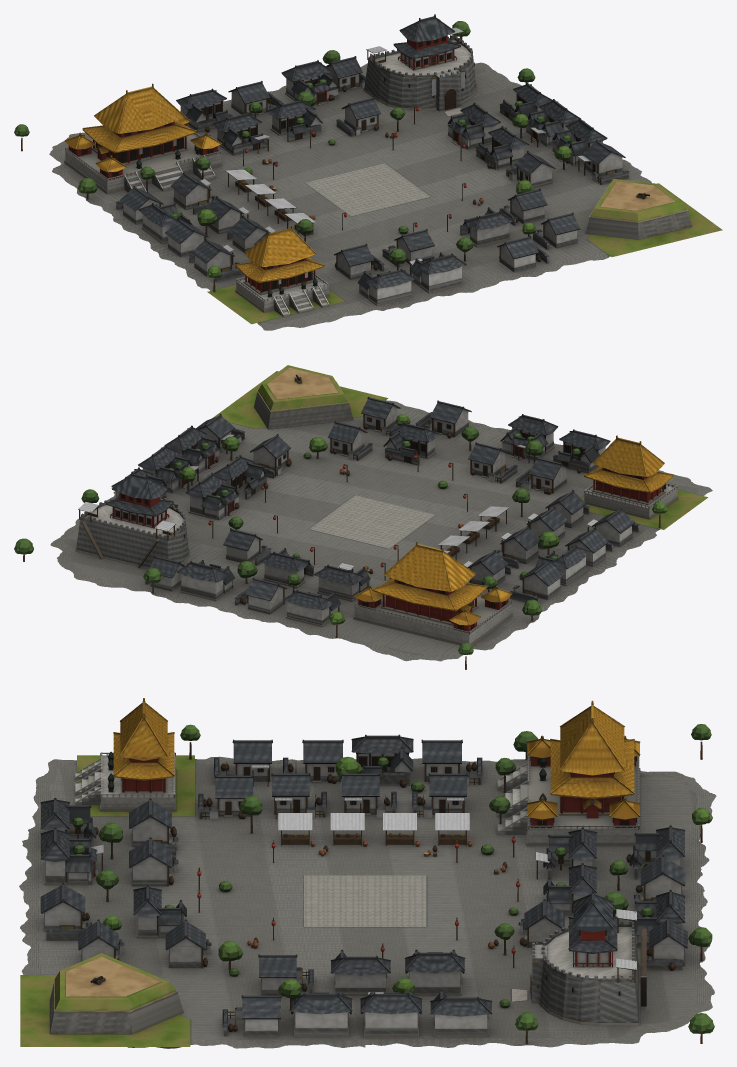
File: gunpowder-town-big-b-sinic.glb
3 views of the same model, one above another, from view 1: azimuth 30°, elevation 25°; view 2: azimuth 150°, elevation 25°; view 3: azimuth 270°, elevation 25° (orthographic). The views are drawn at different scales.
Visible parts, largest first — view 1: LOD0; view 2: LOD0; view 3: LOD0.
Boxes of the visible parts, x1=… form: LOD0: x1=14, y1=14, x2=722, y2=330; LOD0: x1=14, y1=365, x2=712, y2=669; LOD0: x1=19, y1=698, x2=716, y2=1048.
Size of what is drawn, in the model's own units: 8.05 by 1.3 by 8.12.
3 materials, 3 textured.
